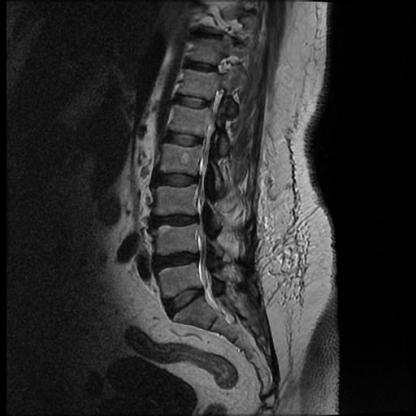Degenerative Disc Diseaserotation: (158, 250, 199, 270)
Disc Bulgerotation: (163, 289, 207, 312), (158, 250, 200, 270), (159, 172, 202, 190), (155, 213, 199, 230), (163, 131, 205, 147)
